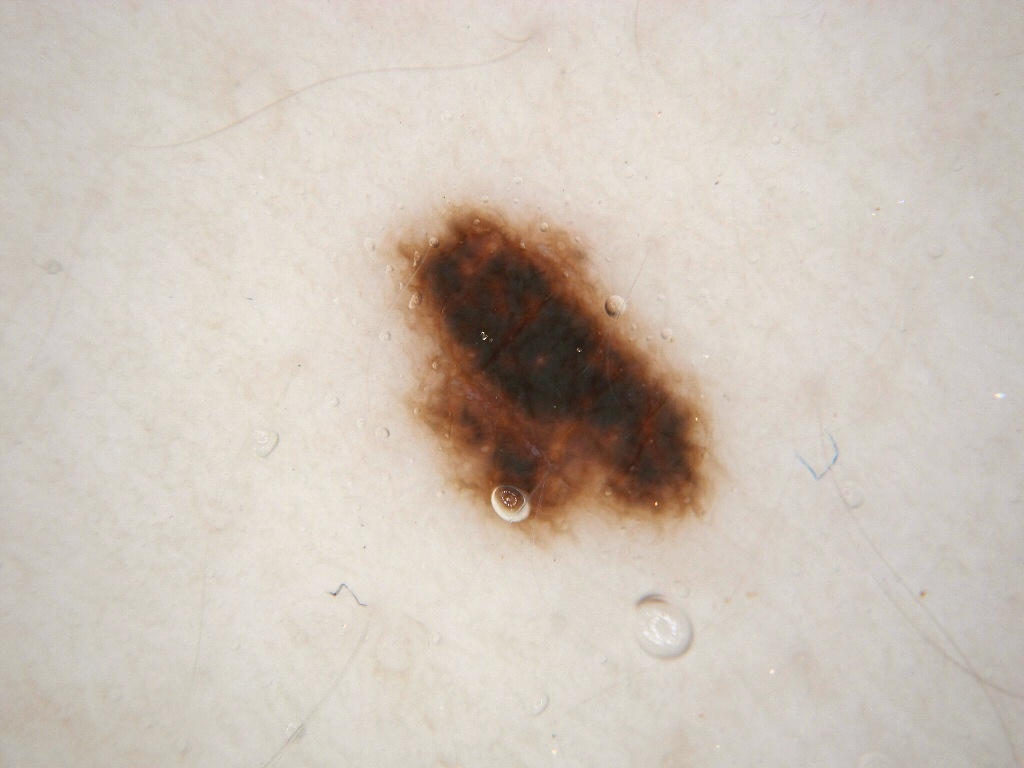Detected Lesion: (382, 198, 735, 548)
